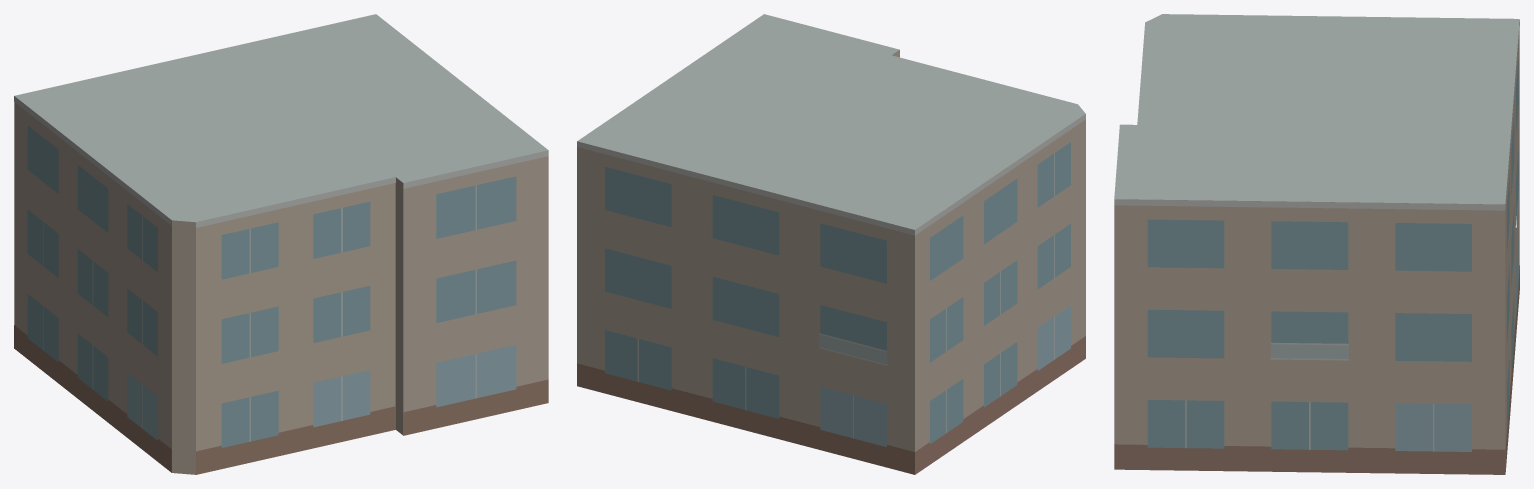
File: survey-upis-32977531.glb
3 views of the same model, side by side, from view 1: azimuth 30°, elevation 25°; view 2: azimuth 150°, elevation 25°; view 3: azimuth 270°, elevation 25° (orthographic). The views are drawn at different scales.
Parts seen in each view (by area): view 1: survey-upis-32977531.tmp; view 2: survey-upis-32977531.tmp; view 3: survey-upis-32977531.tmp.
Part boxes in pixels (box(x1,y1,x2,y2)): survey-upis-32977531.tmp: box(14, 14, 548, 474); survey-upis-32977531.tmp: box(577, 14, 1085, 474); survey-upis-32977531.tmp: box(1114, 14, 1519, 474).
Size of the model in its own units: 16.09 by 10.65 by 14.48.
